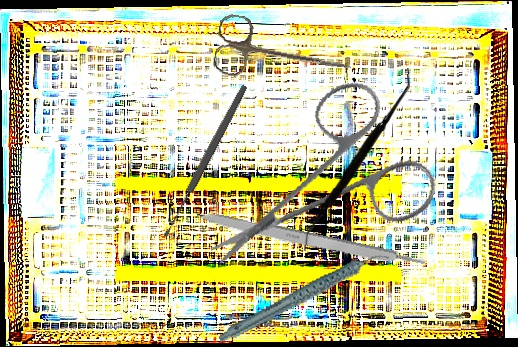Handpiece: (208, 251, 400, 344)
Iris Scissors: (208, 59, 454, 305), (212, 12, 356, 95)
Scalpel Handle: (194, 208, 427, 274)
Spatula Surgical: (302, 66, 411, 253)
Surgical Spoon: (160, 83, 250, 239)
